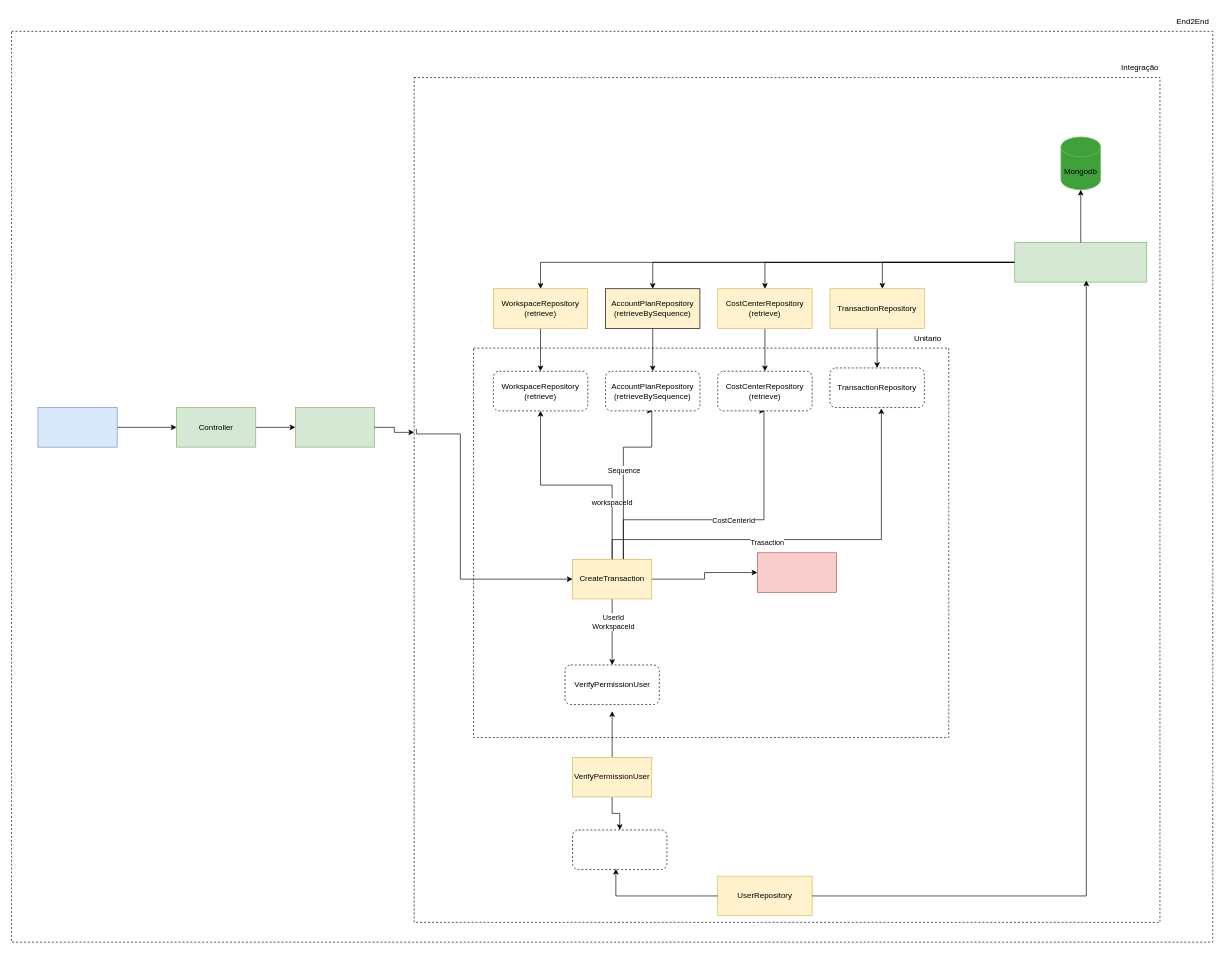
Image size: 1224x954. Some labels were removed from this diagram. The shapes that lost their labels are listed below. From the top down, each one's centre as x and y in pixels, then its label:
At (1080,262): "MongoDBDatabaseConnection".
At (77,427): "Servidor".
At (335,427): "Factory (Somente instancia o caso de uso)".
At (797,572): "Transaction".
At (619,849): "UserRepository (retrieve)".
